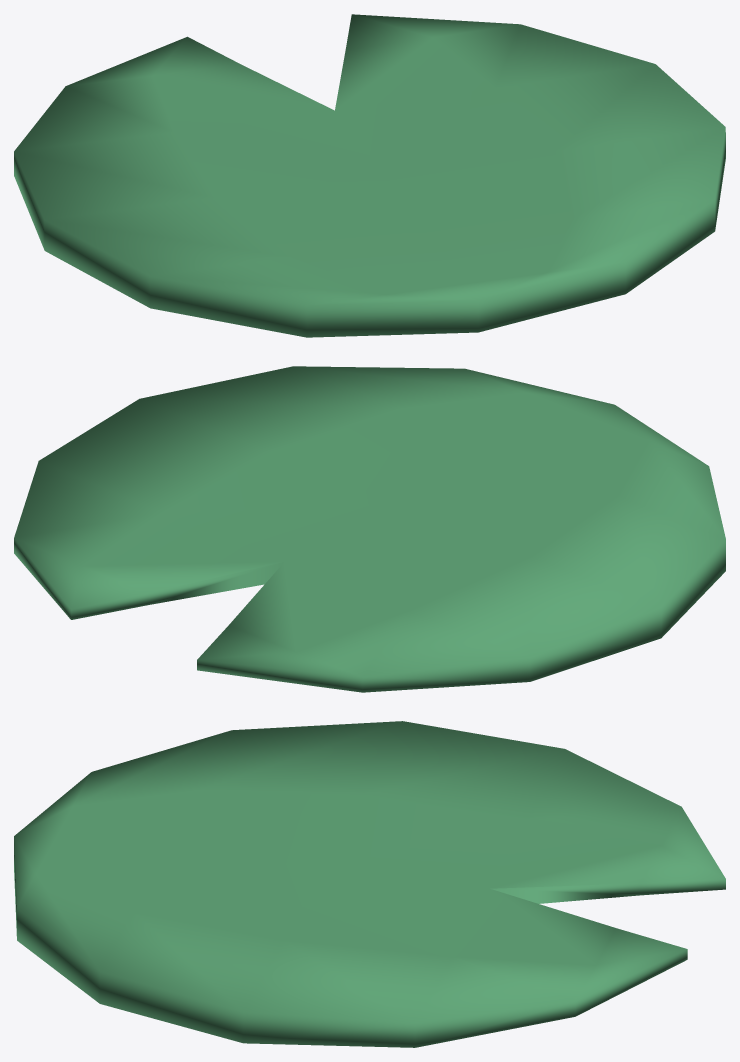
Rendered from lilypad6.fbx.
3 renders of one model, top to bottom at view 1: azimuth 30°, elevation 25°; view 2: azimuth 150°, elevation 25°; view 3: azimuth 270°, elevation 25°, orthographic.
Visible parts, largest first — view 1: lilypad6; view 2: lilypad6; view 3: lilypad6.
Boxes of the visible parts, x1,y1,x2,y2 form: lilypad6: [14, 14, 725, 337]; lilypad6: [14, 366, 725, 692]; lilypad6: [14, 721, 725, 1047].
Size of the model in its own units: 138 by 7.55 by 137.
